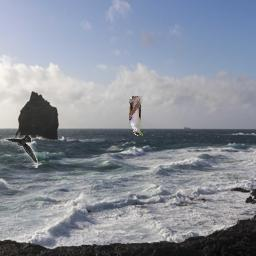Crow: (0, 135, 38, 168)
Cuckoo: (129, 96, 143, 136)
